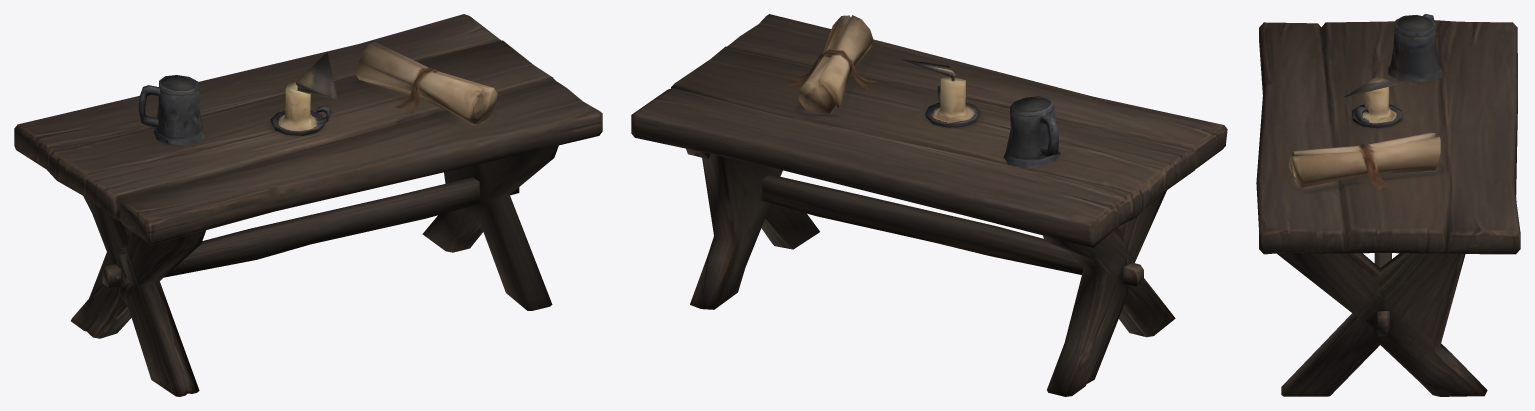
File: tavolo.glb
3 views of the same model, side by side, from view 1: azimuth 30°, elevation 25°; view 2: azimuth 150°, elevation 25°; view 3: azimuth 270°, elevation 25° (orthographic). The views are drawn at different scales.
Parts seen in each view (by area): view 1: tavolo; view 2: tavolo; view 3: tavolo.
Boxes of the visible parts, x1=… form: tavolo: x1=14, y1=14, x2=602, y2=396; tavolo: x1=631, y1=14, x2=1227, y2=396; tavolo: x1=1256, y1=14, x2=1520, y2=396.
Bounding box in the file's own units: 0.9995 × 0.52 × 0.5249.
Materials: 1 (1 with a texture image).
